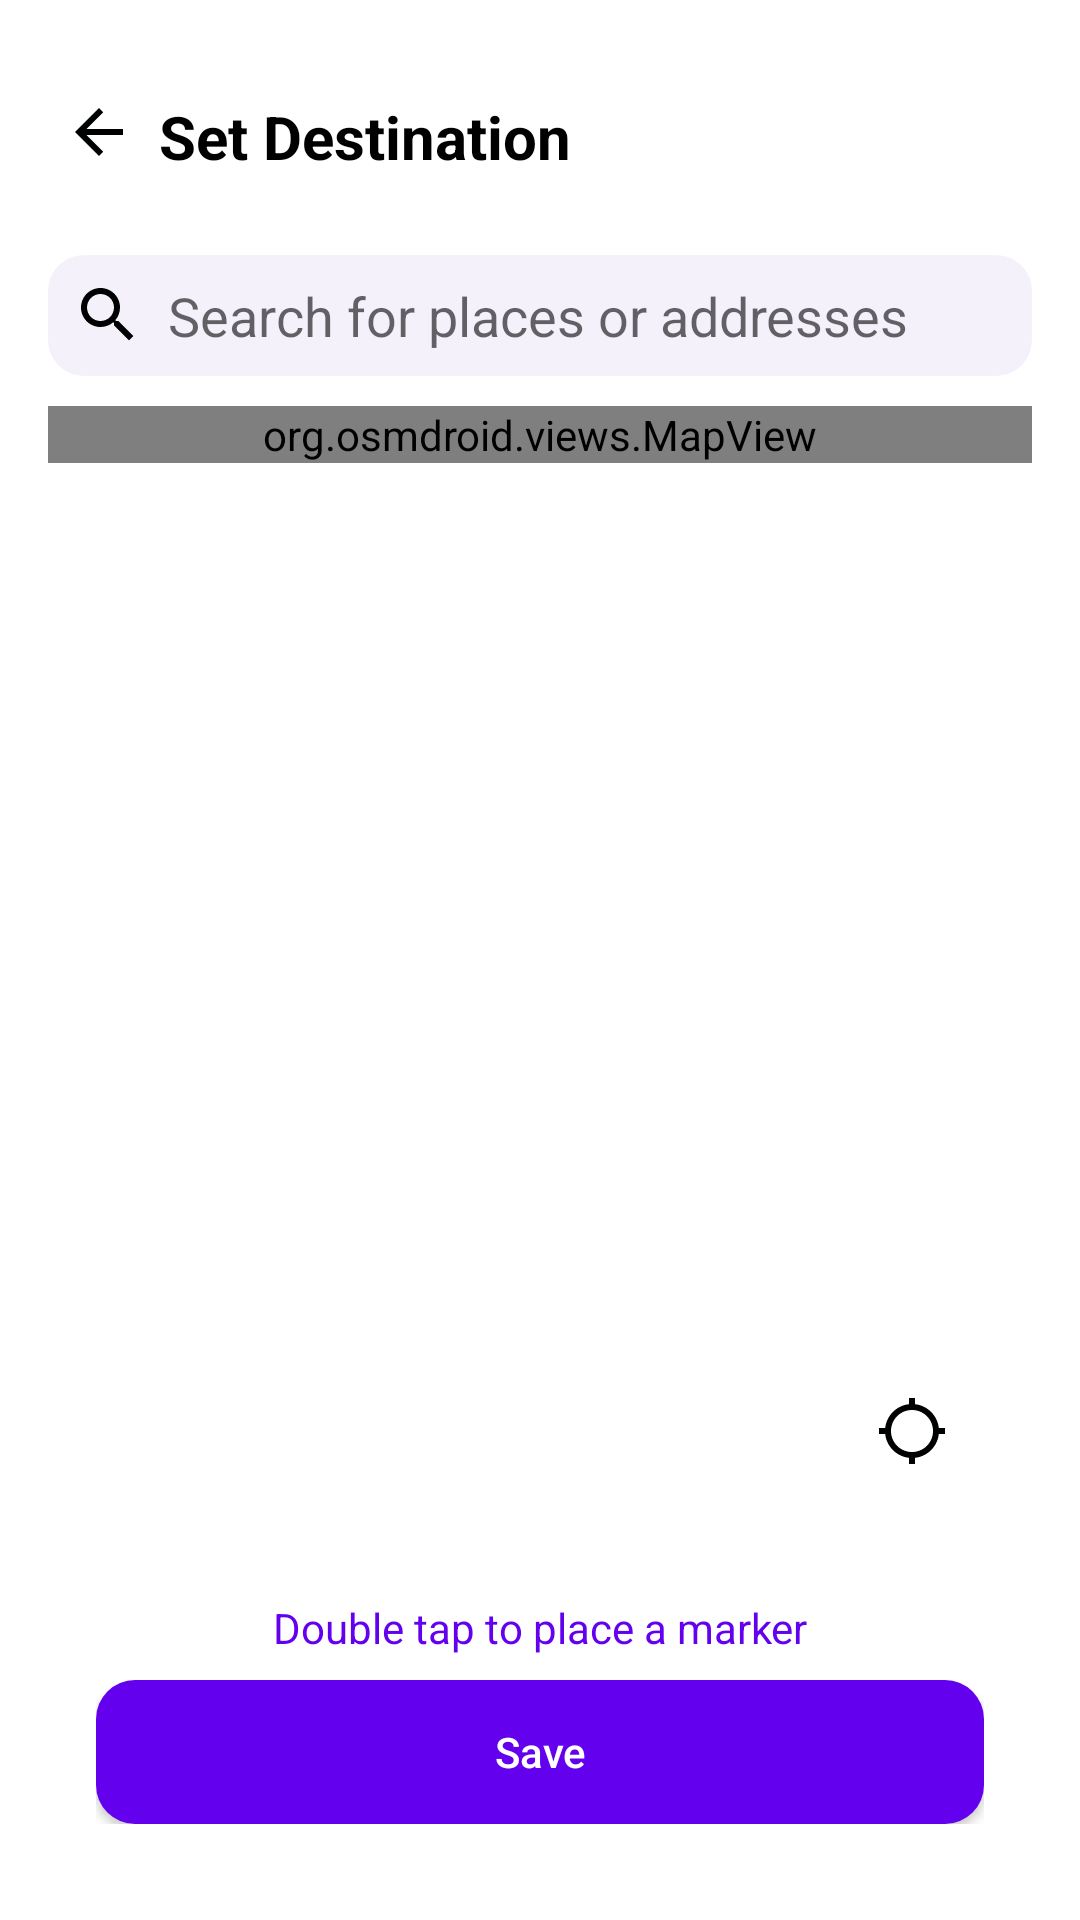

Icon bounding boxes for this 1080 x 1920 phone screenshot, format (x1, y1, x2, y2):
Back Icon: (75, 108, 123, 156)
My Location Button: (879, 1398, 945, 1464)
